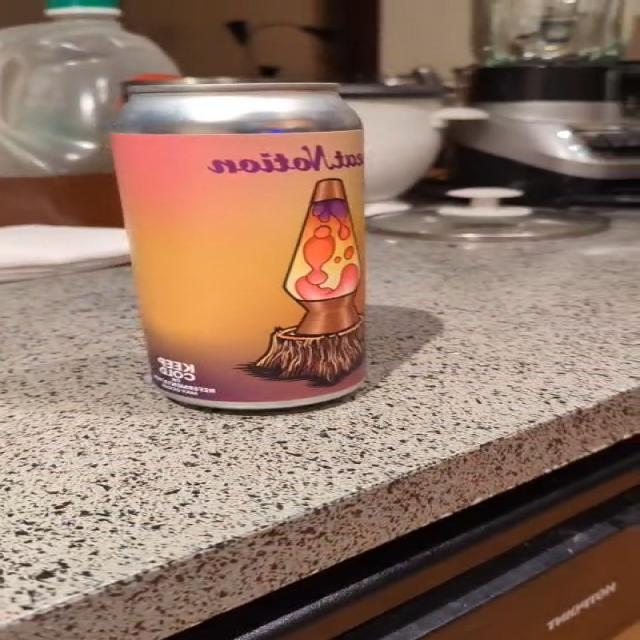metal: (113, 79, 366, 409)
